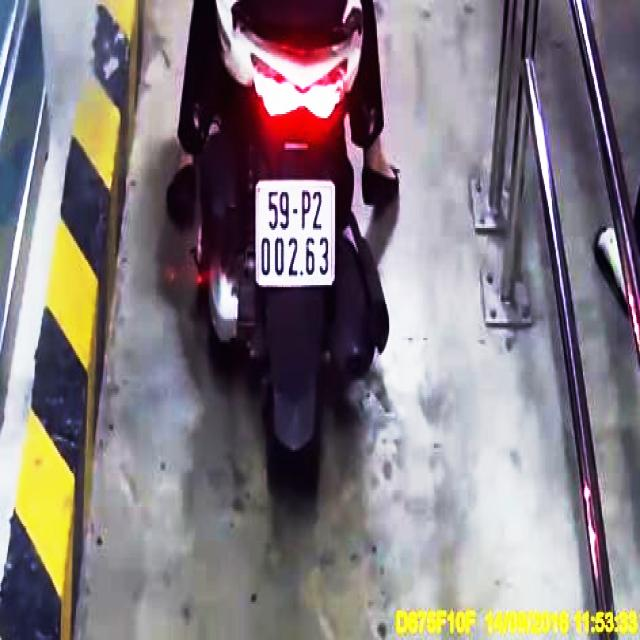license_plate: (259, 183, 335, 285)
